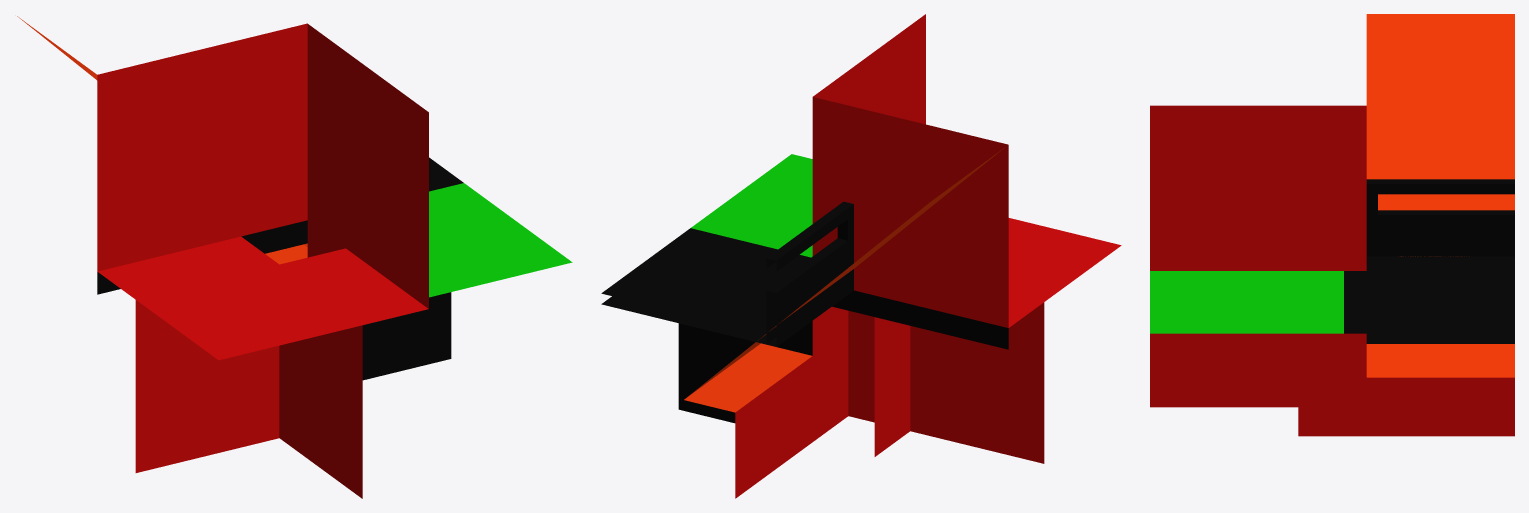
3 renders of one model, left to right at view 1: azimuth 30°, elevation 25°; view 2: azimuth 150°, elevation 25°; view 3: azimuth 270°, elevation 25°, orthographic. The views are drawn at different scales.
Visible parts, largest first — view 1: None_P_W_E_E_S_E_E_A_None; view 2: None_P_W_E_E_S_E_E_A_None; view 3: None_P_W_E_E_S_E_E_A_None.
Boxes of the visible parts, <box> form: None_P_W_E_E_S_E_E_A_None: <box>17,16,572,498</box>; None_P_W_E_E_S_E_E_A_None: <box>601,14,1121,498</box>; None_P_W_E_E_S_E_E_A_None: <box>1150,14,1514,436</box>.
Size of the model in its own units: 100 by 100 by 100.
